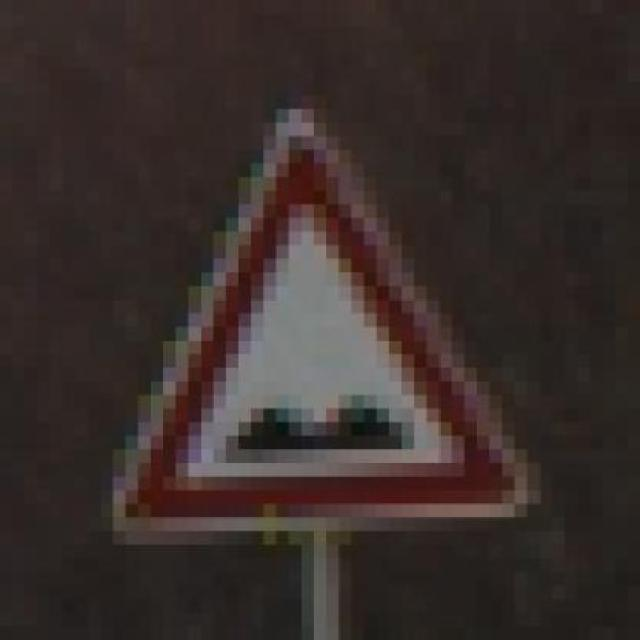Uneven Road: (88, 95, 540, 531)
